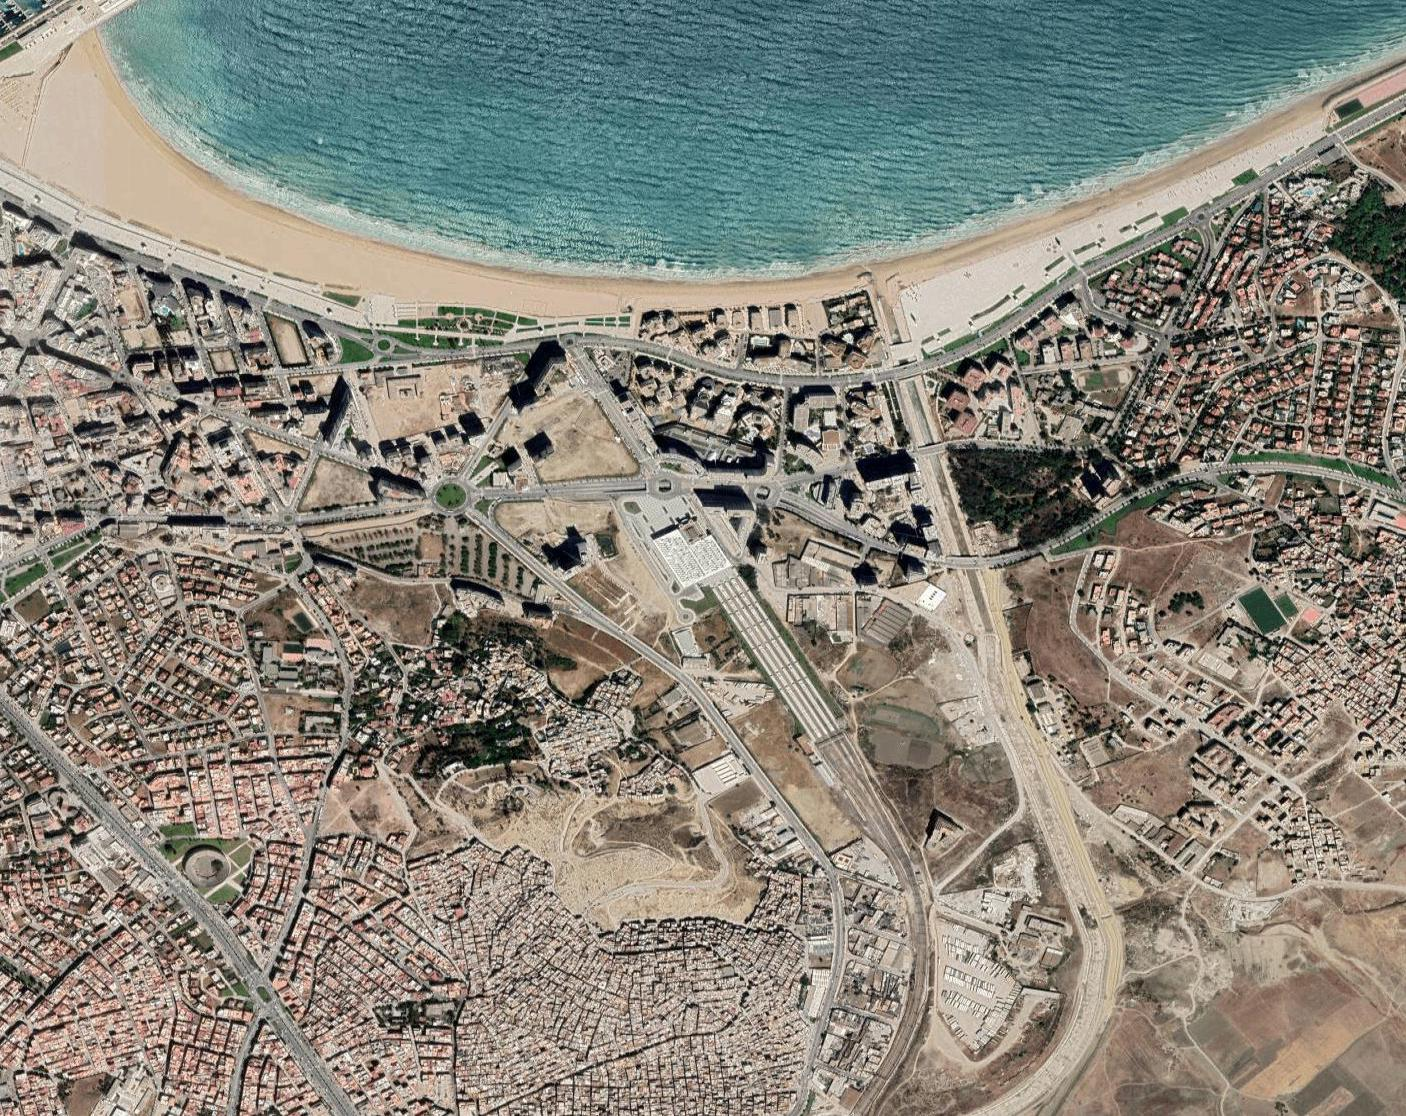motorway: (143, 857, 367, 1116), (1, 695, 163, 854)
train_station: (645, 498, 845, 743)
